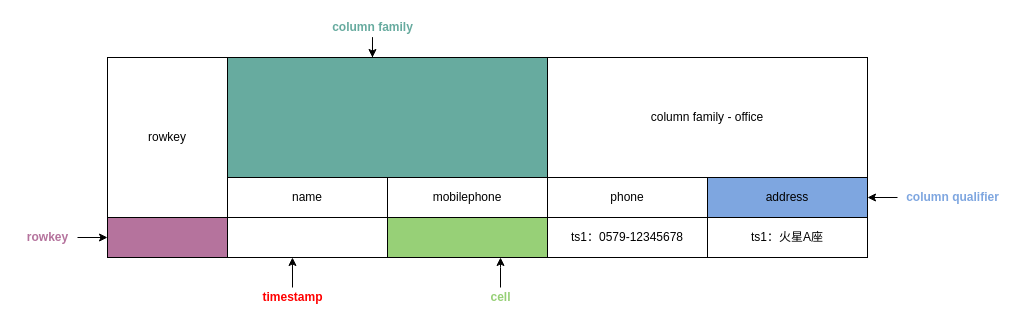
The diagram is 1024 pixels wide and 324 high, and some of its shapes have lost their labels. The shapes that lost their labels are listed below. From the top down, each one's centre as x and y in pixels, then its label:
(387,117): column family - personal
(167,237): c-1001
(307,237): ts1 ：张三
(467,237): ts1：15058553031 ts2：15058553032
